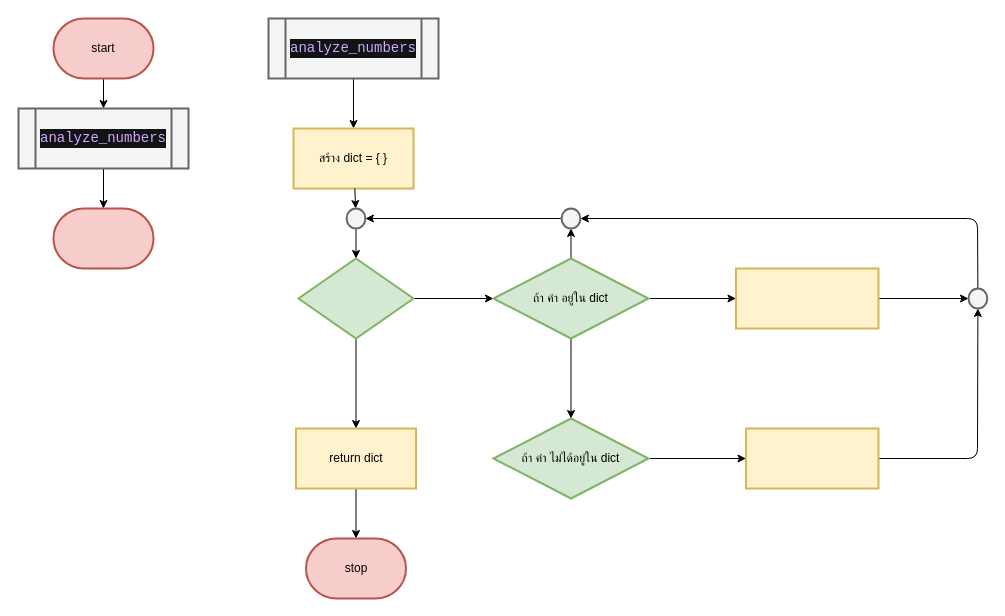
The diagram is 1005 pixels wide and 616 high, and some of its shapes have lost their labels. Here are the shapes that lost their labels. From the top down, the centre of each, then its label:
At pixel 103 238: "end".
At pixel 355 298: "วนคำใน list word".
At pixel 806 298: "เพิ่มค่าใน dict [คำ] += 1".
At pixel 811 458: "เพิ่มค่าใน dict [คำ] = 1".
